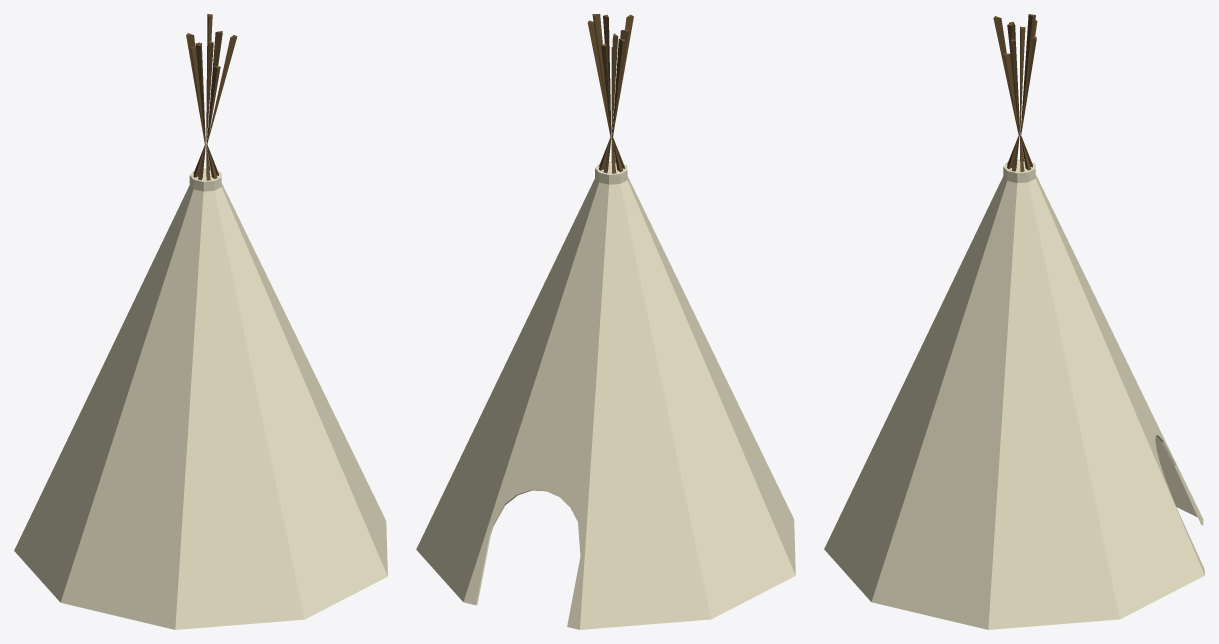
File: model_polytope_teepee01.fbx
3 renders of one model, left to right at view 1: azimuth 30°, elevation 25°; view 2: azimuth 150°, elevation 25°; view 3: azimuth 270°, elevation 25°, orthographic.
Visible parts, largest first — view 1: model_polytope_teepee01; view 2: model_polytope_teepee01; view 3: model_polytope_teepee01.
Boxes of the visible parts, <box> form: model_polytope_teepee01: <box>14,14,387,629</box>; model_polytope_teepee01: <box>416,14,795,629</box>; model_polytope_teepee01: <box>824,14,1204,629</box>.
Size of the model in its own units: 551 by 846 by 543.
